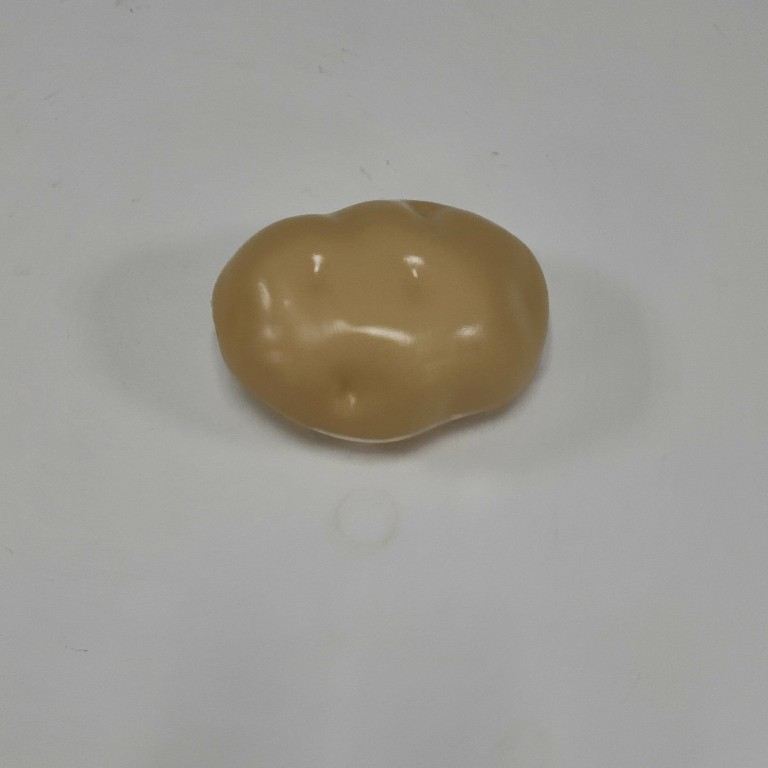fruit_potato: (207, 196, 553, 450)
